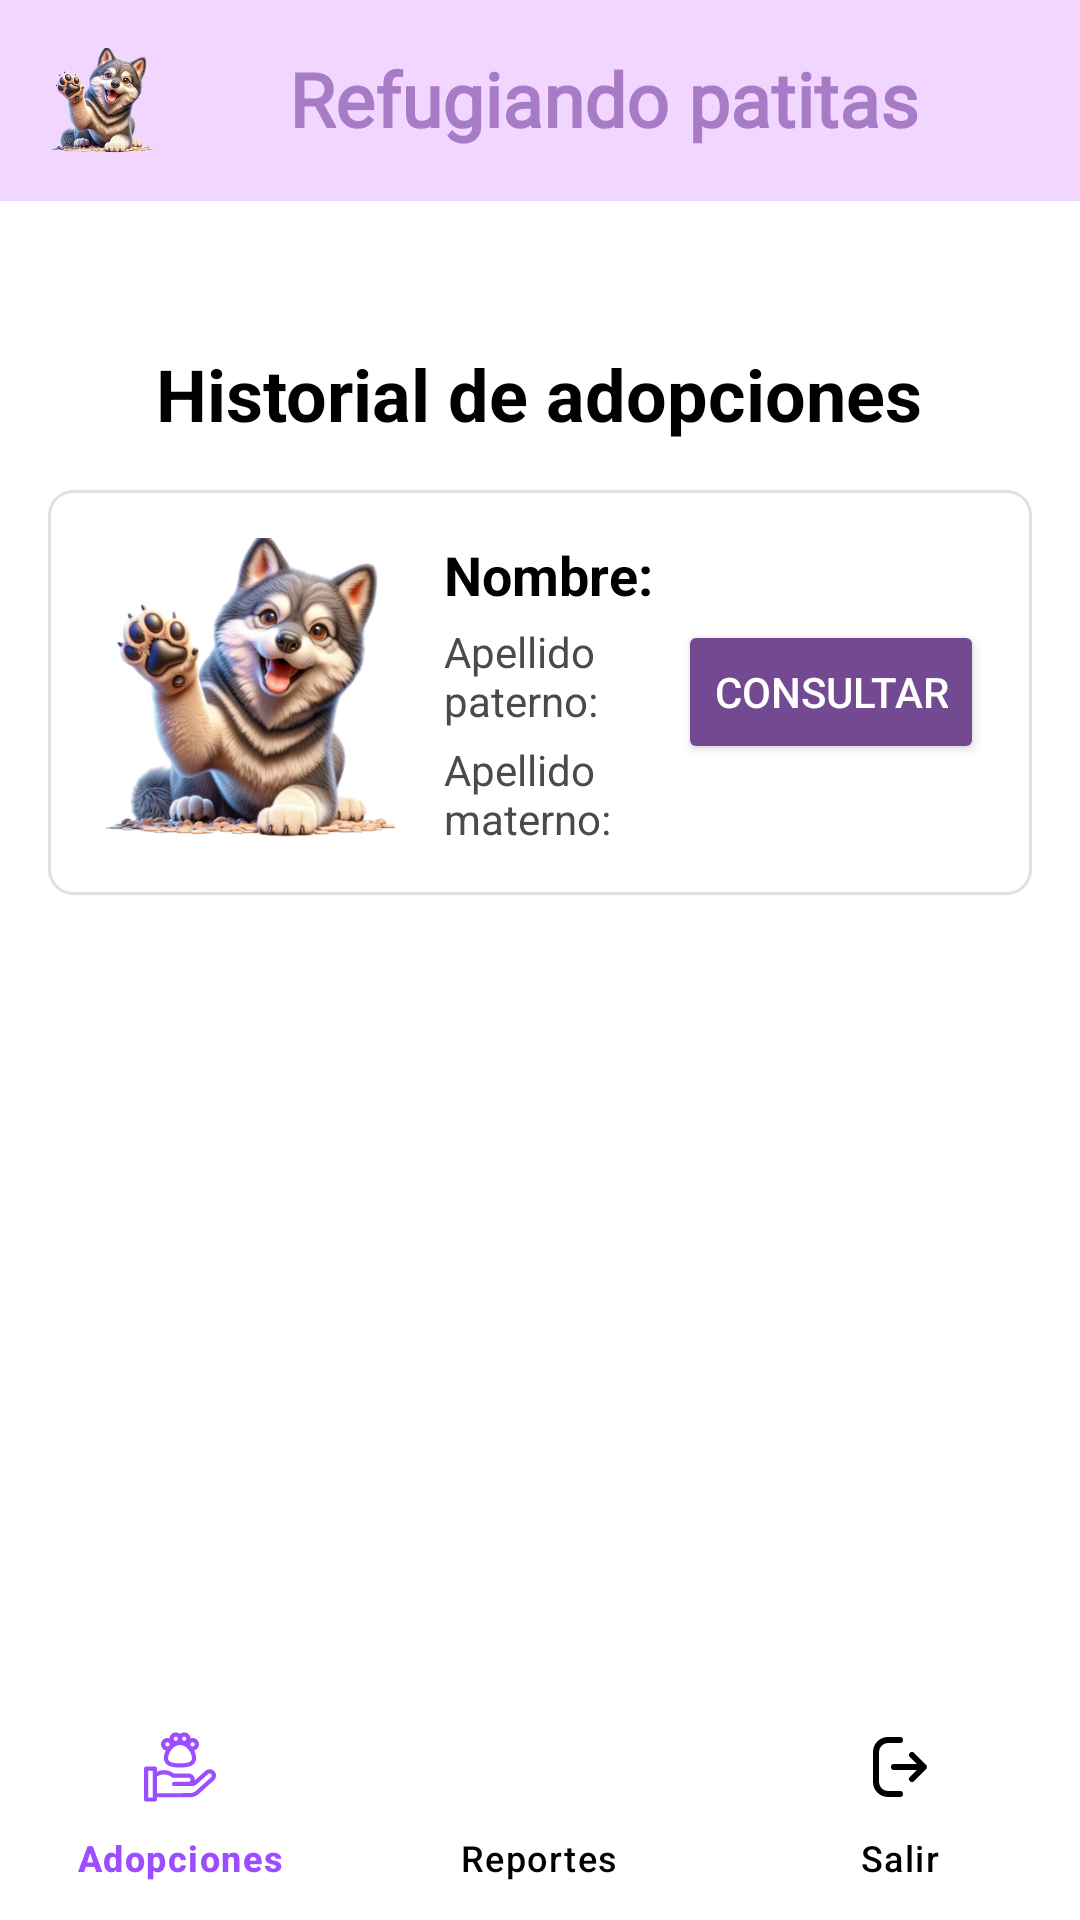

Point at icon controls on the screen. Image size 1080×1920, points as [x,y].
perro: [102,100], [250,687]
